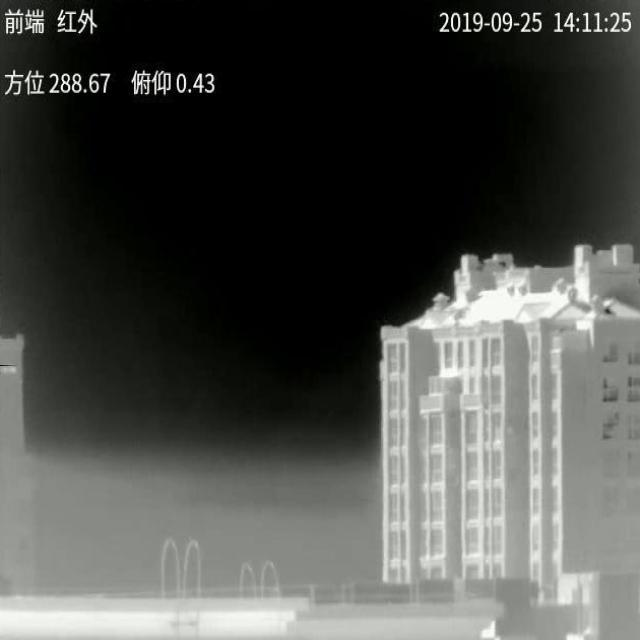drone: (0, 365, 17, 374)
